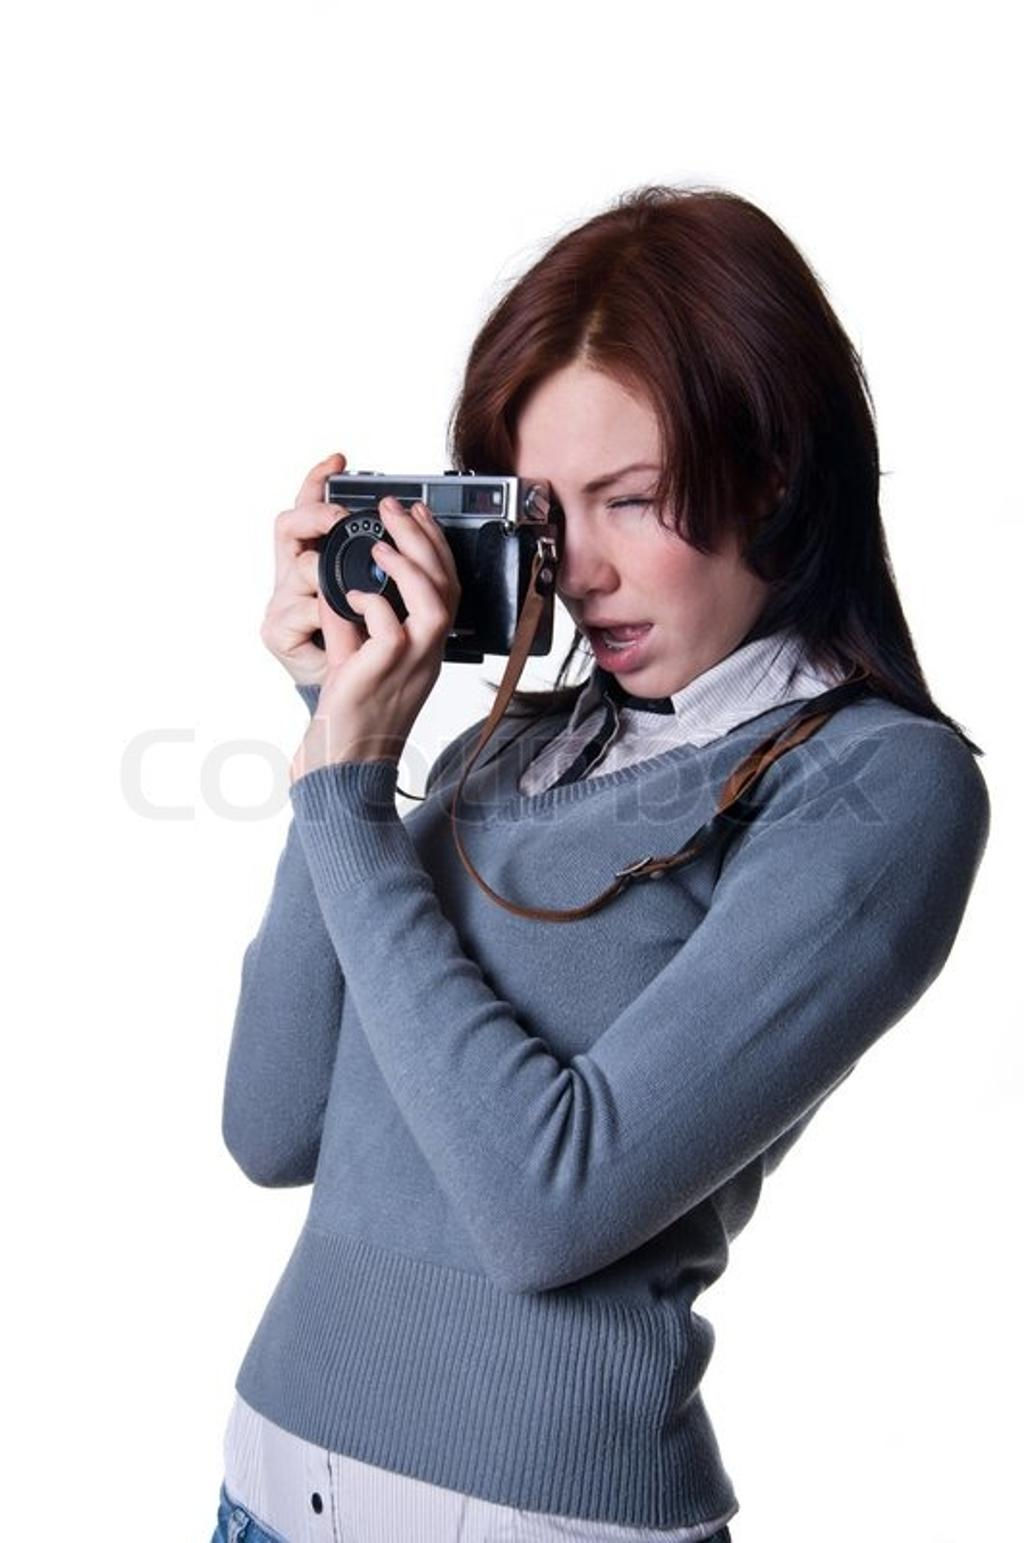face: (509, 370, 738, 698)
